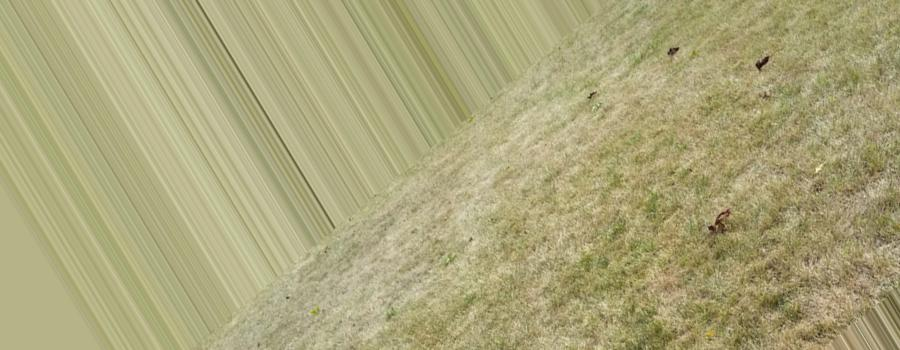patch: (335, 225, 752, 312), (451, 158, 818, 254), (264, 284, 658, 347), (493, 82, 663, 164)
